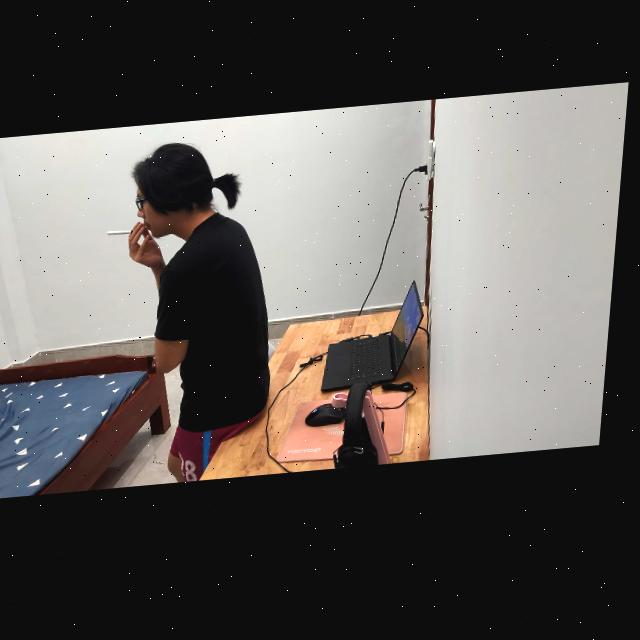cigarette: (111, 231, 138, 238)
